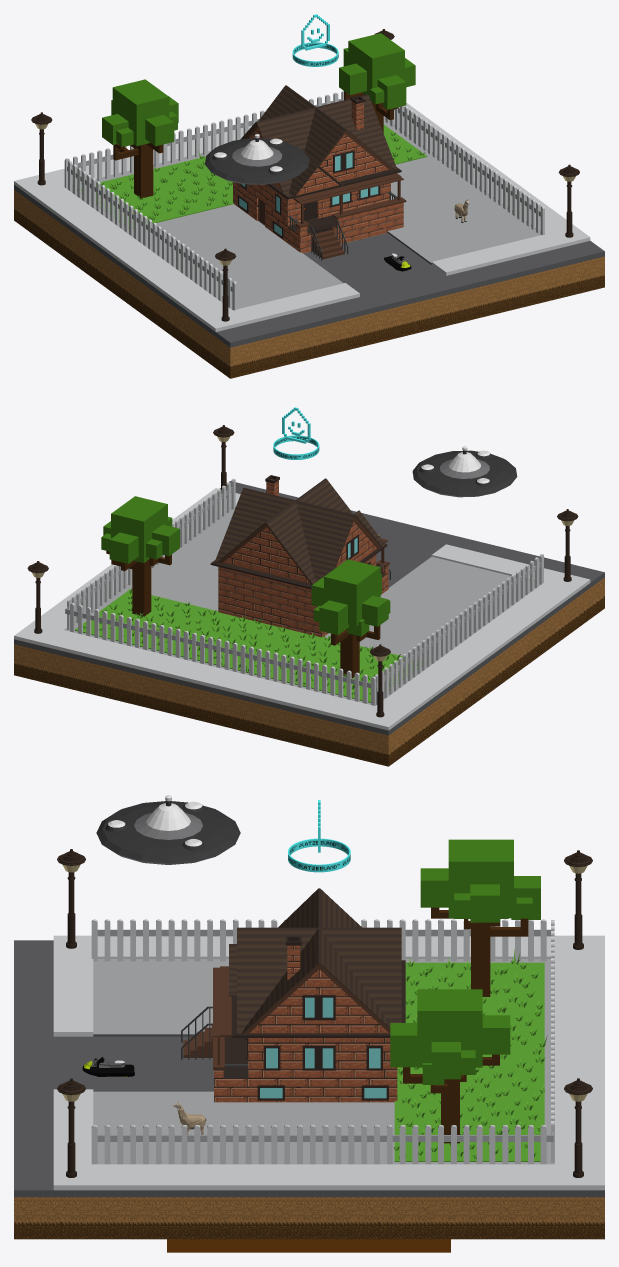
The picture shows the model from 3 angles, top to bottom: view 1: azimuth 30°, elevation 25°; view 2: azimuth 150°, elevation 25°; view 3: azimuth 270°, elevation 25°; orthographic projection. The views are drawn at different scales.
Visible parts, largest first — view 1: Cube.004, Cube.469, OBJRANDOM_UFO, TYPE_PREMIUM; view 2: Cube.004, Cube.469, OBJRANDOM_UFO, TYPE_PREMIUM; view 3: Cube.004, Cube.469, OBJRANDOM_UFO, UNDERGROUND_ART_PIECE_VAN_GOGH, TYPE_PREMIUM, VEHICLES_WATERBIKE.
Boxes of the visible parts, x1,y1,x2,y2 form: Cube.004: (14, 29, 604, 378); Cube.469: (233, 85, 406, 260); OBJRANDOM_UFO: (205, 134, 309, 184); TYPE_PREMIUM: (292, 14, 338, 66); Cube.004: (14, 425, 604, 766); Cube.469: (210, 475, 390, 637); OBJRANDOM_UFO: (412, 446, 517, 497); TYPE_PREMIUM: (273, 407, 319, 459); Cube.004: (14, 839, 604, 1239); Cube.469: (181, 888, 405, 1102); OBJRANDOM_UFO: (96, 795, 240, 864); UNDERGROUND_ART_PIECE_VAN_GOGH: (167, 1239, 450, 1252); TYPE_PREMIUM: (288, 800, 350, 872); VEHICLES_WATERBIKE: (82, 1057, 134, 1076).
Size of the model in its own units: 4000 by 2592 by 4000.
Materials: 29 (6 with a texture image).
